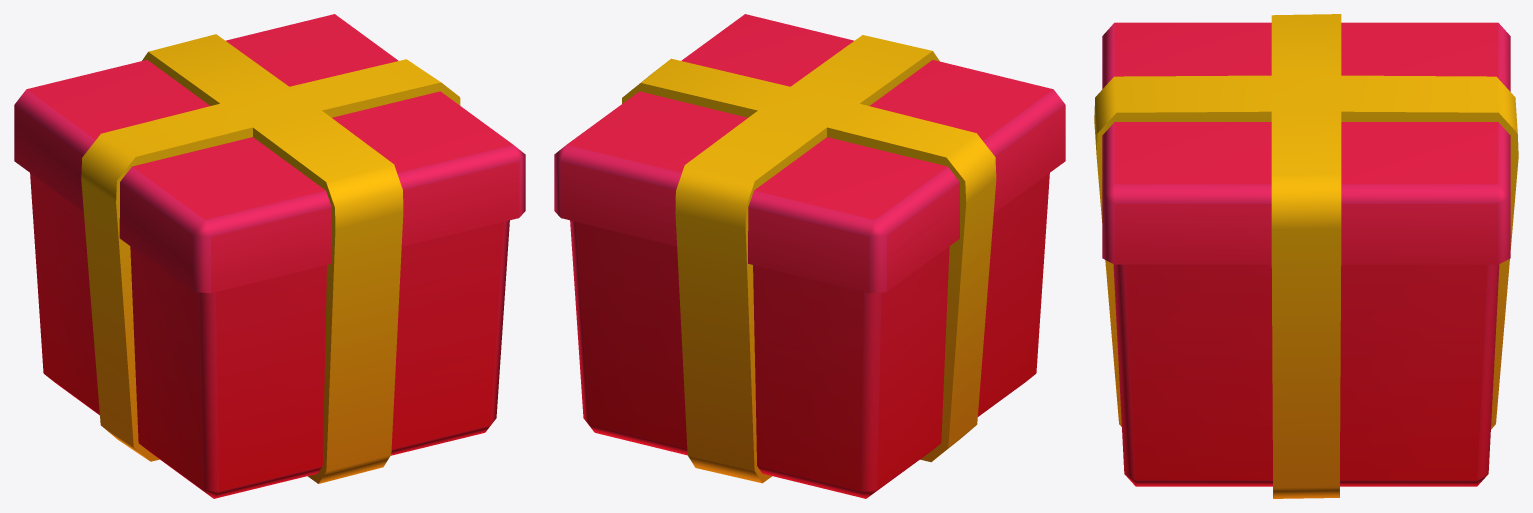
Rendered from giftbox_040.fbx.
The picture shows the model from 3 angles, left to right: view 1: azimuth 30°, elevation 25°; view 2: azimuth 150°, elevation 25°; view 3: azimuth 270°, elevation 25°; orthographic projection. The views are drawn at different scales.
Parts seen in each view (by area): view 1: giftbox_040; view 2: giftbox_040; view 3: giftbox_040.
Boxes of the visible parts, <box> form: giftbox_040: <box>14,14,525,498</box>; giftbox_040: <box>554,14,1065,498</box>; giftbox_040: <box>1094,14,1518,498</box>.
Size of the model in its own units: 181 by 179 by 155.
